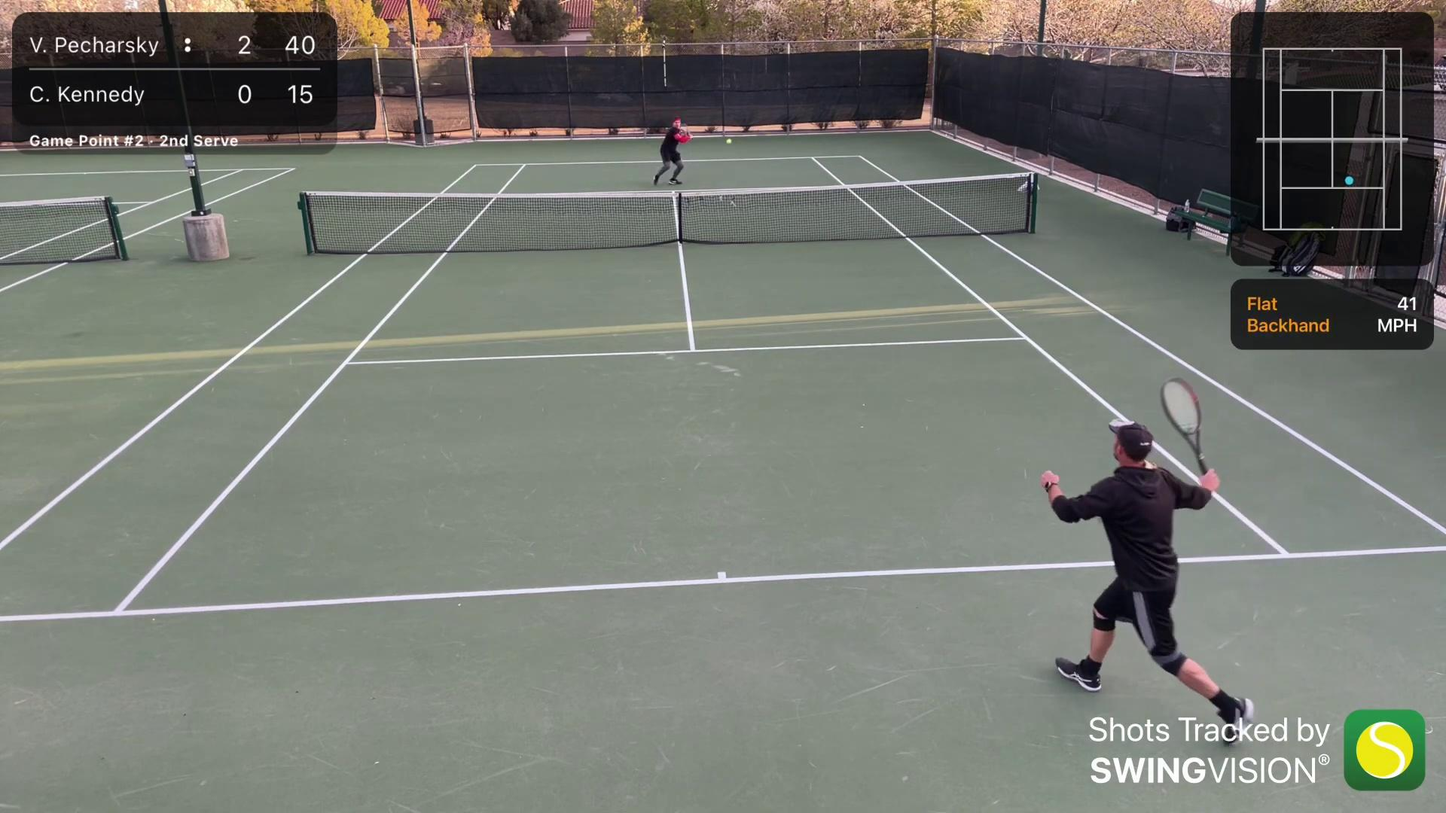ball: (725, 137, 733, 144)
